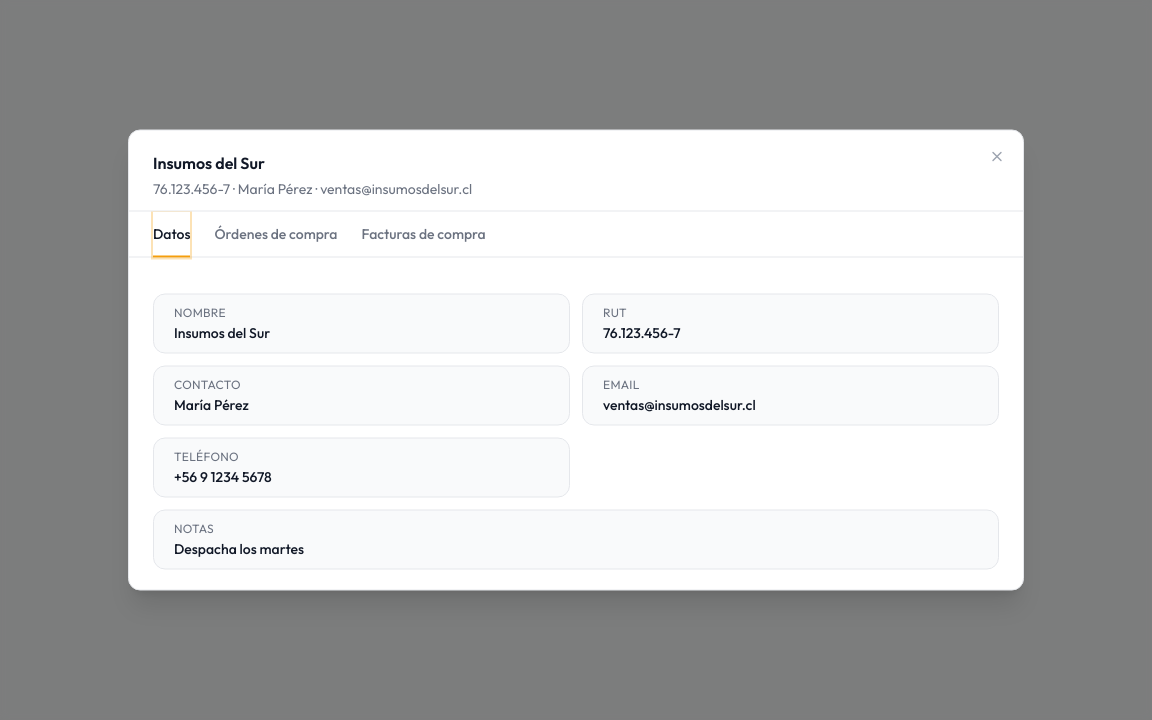
it: ProveedorDetailModal › renders OC row with link to /ordenes-compra/<id> and entrega estimada
Click the tab "Órdenes de compra". click: (276, 234)
box: [214,212,338,258]
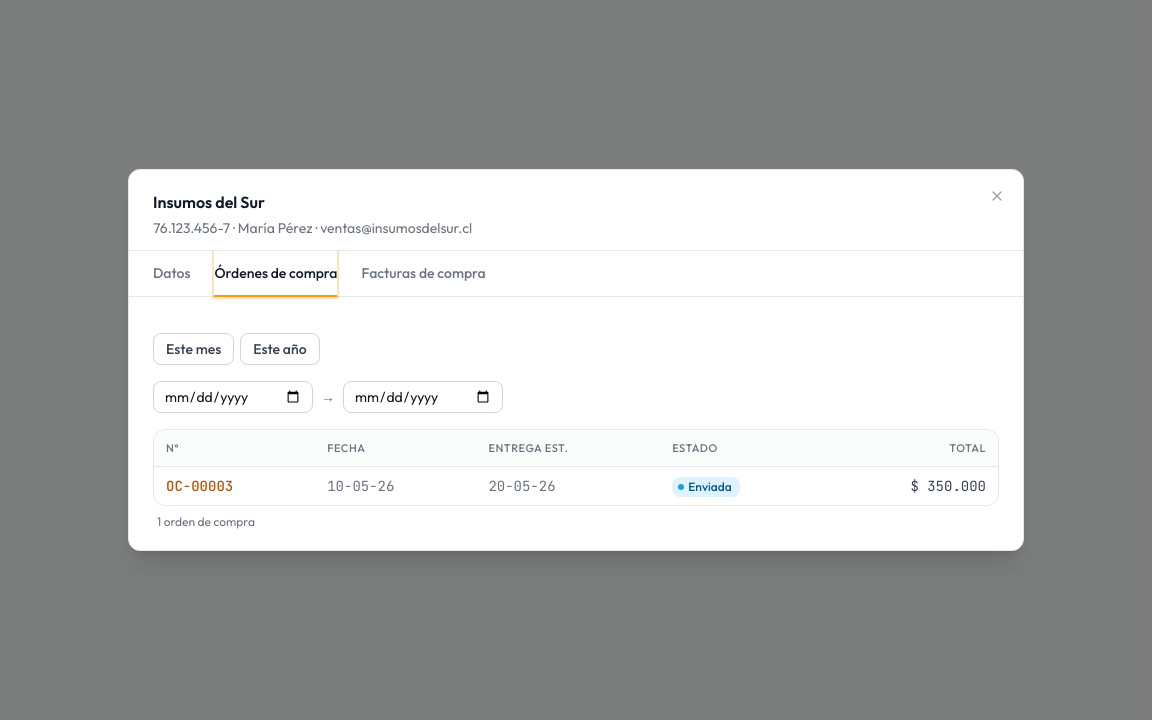
Expected: the text "Enviada" is shown, [672,477,740,497]
Expected: the text "1 orden de compra" is shown, [157,514,255,529]
